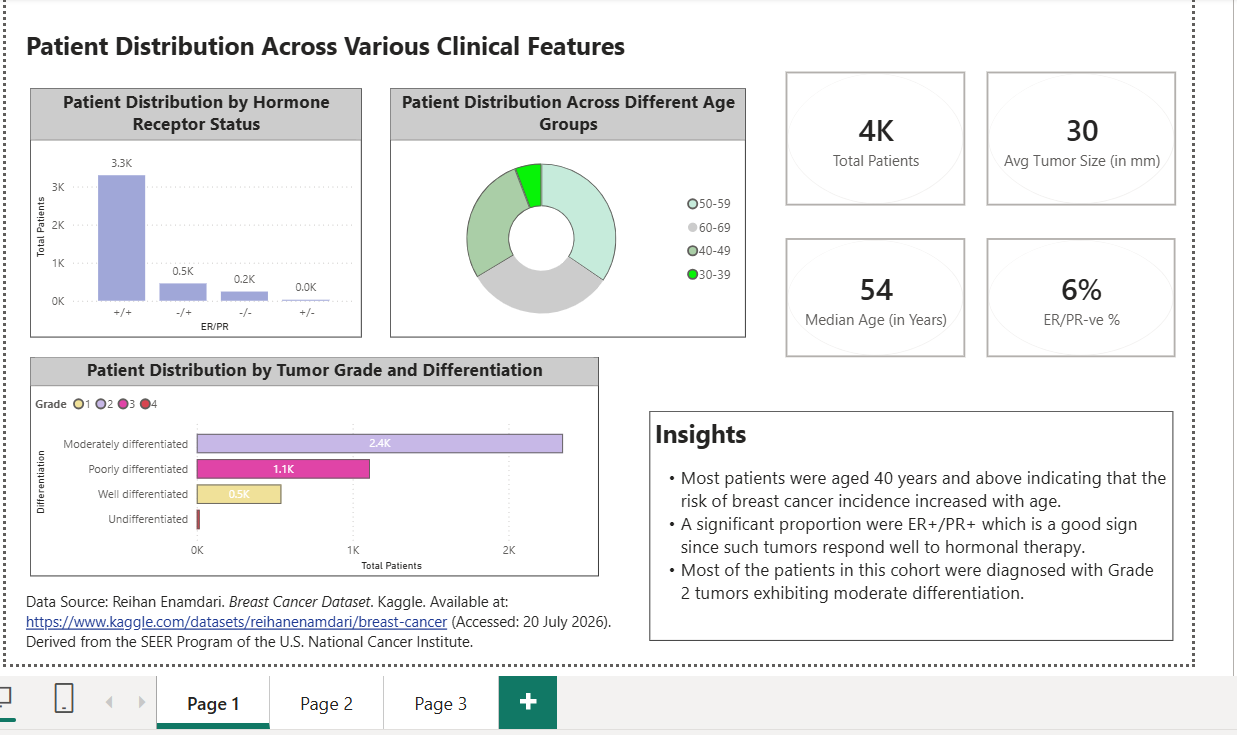

This screenshot's page, from the dashboard's own definition file:
{"tool":"powerbi","page":{"name":"Page 1","canvas":[1280,720],"ordinal":0},"visuals":[{"type":"cardVisual","fields":{"Data":["fact_BreastCancer.Total Patients"]},"box":[824.2,63.1,228.3,179.7],"z":0},{"type":"donutChart","title":"Patient Distribution Across Different Age Groups","fields":{"Category":["fact_BreastCancer.AgeGroup"],"Y":["fact_BreastCancer.Total Patients"]},"box":[414.5,98.8,383.8,268.8],"z":1000},{"type":"columnChart","title":"Patient Distribution by Hormone Receptor Status","fields":{"Category":["dim_hormonal_status.ER/PR"],"Y":["fact_BreastCancer.Total Patients"]},"box":[25.9,98.8,357.8,268.8],"z":2000},{"type":"barChart","title":"Patient Distribution by Tumor Grade and Differentiation","fields":{"Y":["fact_BreastCancer.Total Patients"],"Series":["dim_grade.Grade"],"Category":["dim_grade.Differentiation"]},"box":[25.9,388.6,613.7,236.4],"z":3000},{"type":"cardVisual","fields":{"Data":["fact_BreastCancer.Average Tumor Size"]},"box":[1041.2,63.1,239.6,179.7],"z":4000},{"type":"textbox","box":[694.6,446.9,565.1,247.7],"z":5000},{"type":"textbox","box":[16.2,29.1,822.6,61.5],"z":6000},{"type":"cardVisual","fields":{"Data":["fact_BreastCancer.ER/PR-ve %"]},"box":[1041.2,242.9,238,163.5],"z":7000},{"type":"cardVisual","fields":{"Data":["fact_BreastCancer.Median Age"]},"box":[824.2,242.9,228.3,163.5],"z":8000},{"type":"textbox","box":[16.2,636.4,662.3,79.3],"z":9000}]}

Visuals, with their boxes on the page's 1280x720 design canvas (x1, y1, x2, y2). These are canvas units, not pixel positions in the 1237x735 screenshot, which may show the page scaled, cropped or inside an application window:
cardVisual - fact_BreastCancer.Total Patients: box=[824, 63, 1052, 243]
"Patient Distribution Across Different Age Groups" donutChart: box=[414, 99, 798, 368]
"Patient Distribution by Hormone Receptor Status" columnChart: box=[26, 99, 384, 368]
"Patient Distribution by Tumor Grade and Differentiation" barChart: box=[26, 389, 640, 625]
cardVisual - fact_BreastCancer.Average Tumor Size: box=[1041, 63, 1281, 243]
textbox: box=[695, 447, 1260, 695]
textbox: box=[16, 29, 839, 91]
cardVisual - fact_BreastCancer.ER/PR-ve %: box=[1041, 243, 1279, 406]
cardVisual - fact_BreastCancer.Median Age: box=[824, 243, 1052, 406]
textbox: box=[16, 636, 678, 716]
